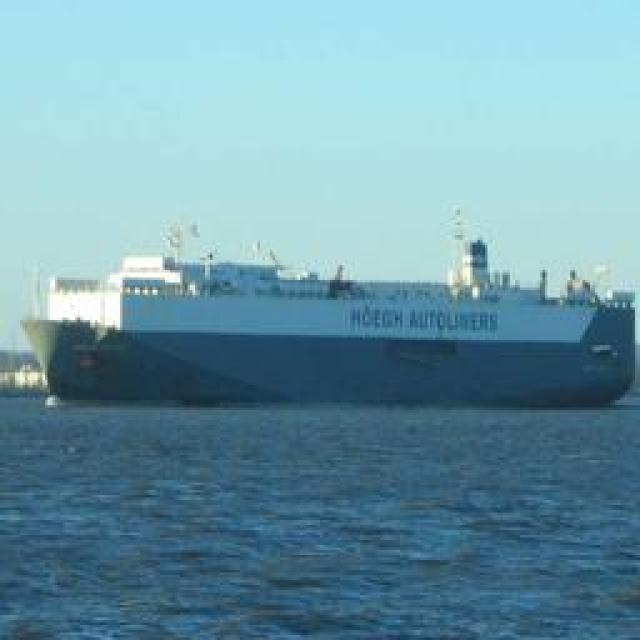CIV_Ship: (56, 208, 639, 406)
